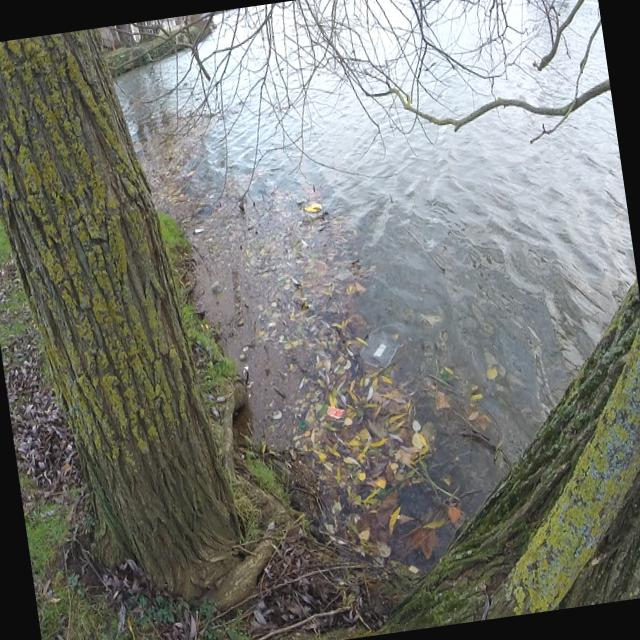Trash: (325, 402, 347, 422), (371, 341, 390, 363), (296, 417, 310, 434)
